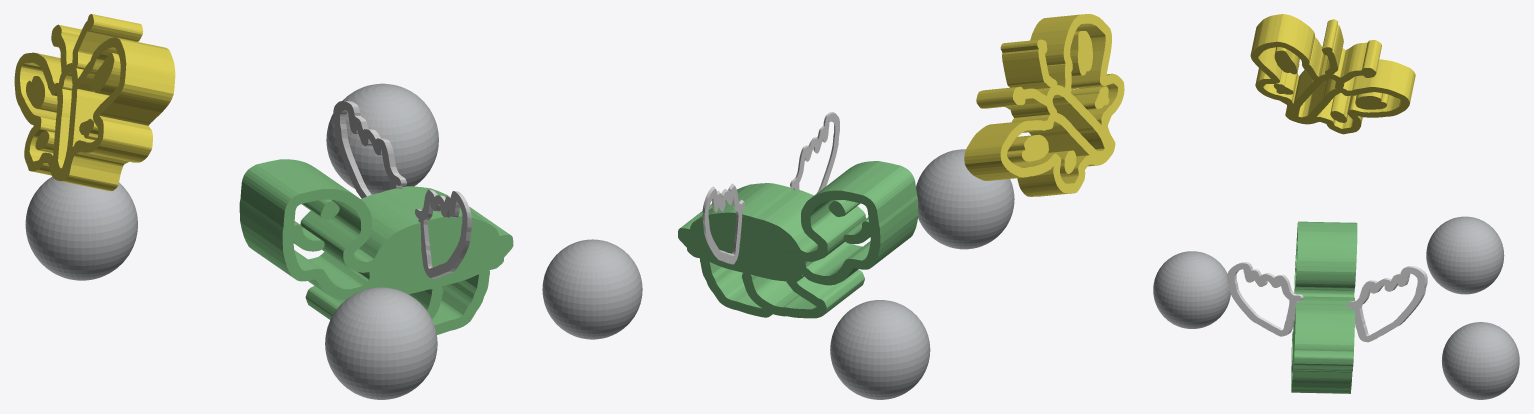
The model's file is tortuga.glb.
3 renders of one model, left to right at view 1: azimuth 30°, elevation 25°; view 2: azimuth 150°, elevation 25°; view 3: azimuth 270°, elevation 25°, orthographic. The views are drawn at different scales.
Visible parts, largest first — view 1: Mesh_Mesh_head_geo.001_lambert2SG.001; view 2: Mesh_Mesh_head_geo.001_lambert2SG.001; view 3: Mesh_Mesh_head_geo.001_lambert2SG.001.
Part boxes in pixels (x1,y1,x2,y2): Mesh_Mesh_head_geo.001_lambert2SG.001: [14, 14, 513, 399]; Mesh_Mesh_head_geo.001_lambert2SG.001: [542, 14, 1124, 399]; Mesh_Mesh_head_geo.001_lambert2SG.001: [1153, 14, 1519, 399].
Bounding box in the file's own units: 0.1028 × 0.0744 × 0.094.
